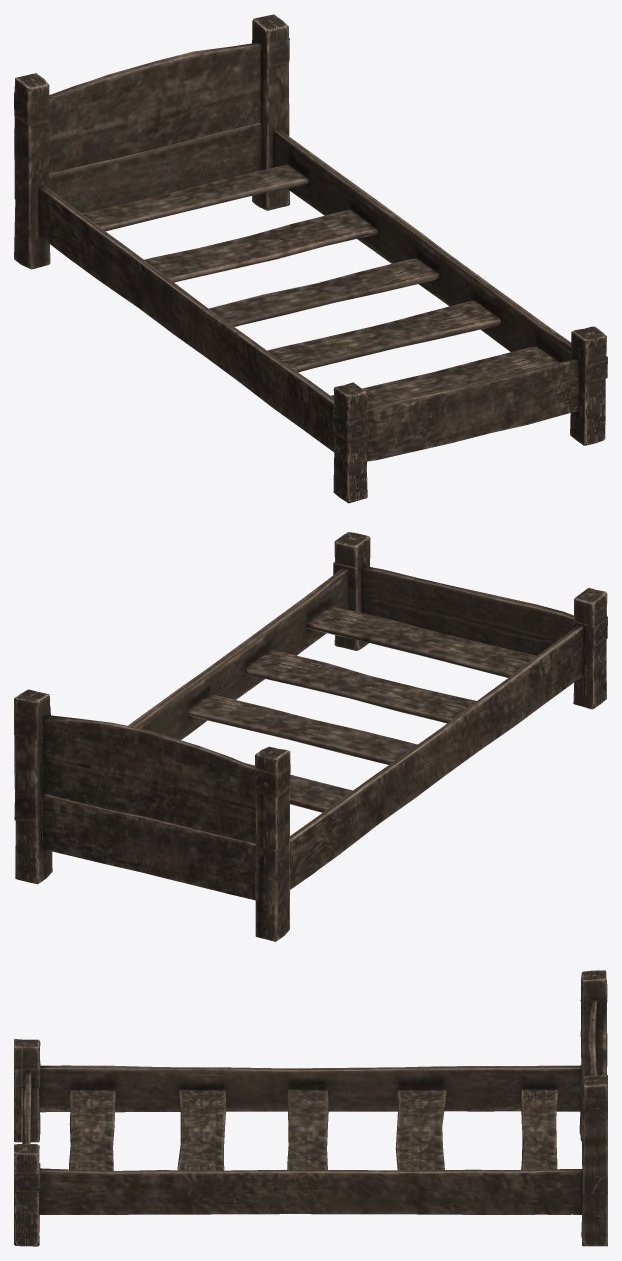
The model's file is d_bed_frame.glb.
3 renders of one model, top to bottom at view 1: azimuth 30°, elevation 25°; view 2: azimuth 150°, elevation 25°; view 3: azimuth 270°, elevation 25°, orthographic. The views are drawn at different scales.
Visible parts, largest first — view 1: d_bed_frame; view 2: d_bed_frame; view 3: d_bed_frame.
Boxes of the visible parts, <box> form: d_bed_frame: <box>14,14,607,503</box>; d_bed_frame: <box>14,532,607,941</box>; d_bed_frame: <box>14,970,607,1246</box>.
Size of the model in its own units: 1.37 by 0.9142 by 3.
1 material, 1 textured.
